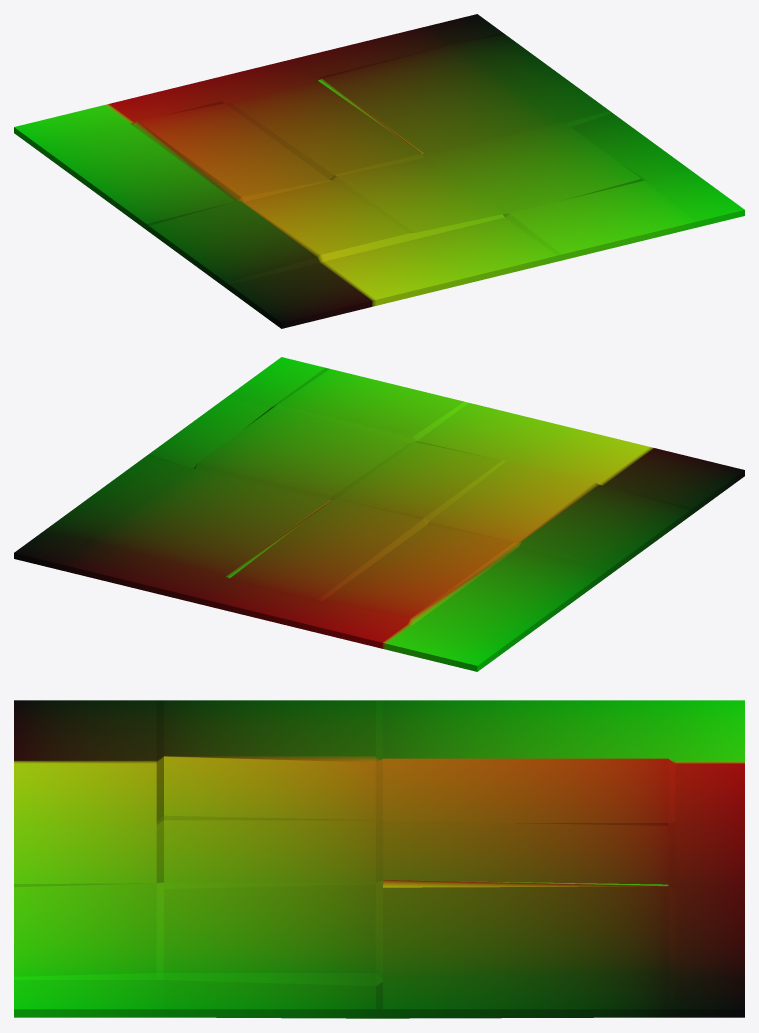
File: SM_Human_Sidewalks1010_01.FBX
3 views of the same model, one above another, from view 1: azimuth 30°, elevation 25°; view 2: azimuth 150°, elevation 25°; view 3: azimuth 270°, elevation 25° (orthographic). The views are drawn at different scales.
Parts seen in each view (by area): view 1: Plane474; view 2: Plane474; view 3: Plane474.
Part boxes in pixels (x1=…): Plane474: x1=14, y1=14, x2=744, y2=328; Plane474: x1=14, y1=357, x2=744, y2=671; Plane474: x1=14, y1=700, x2=744, y2=1018.
Size of the model in its own units: 1000 by 24.14 by 1000.
